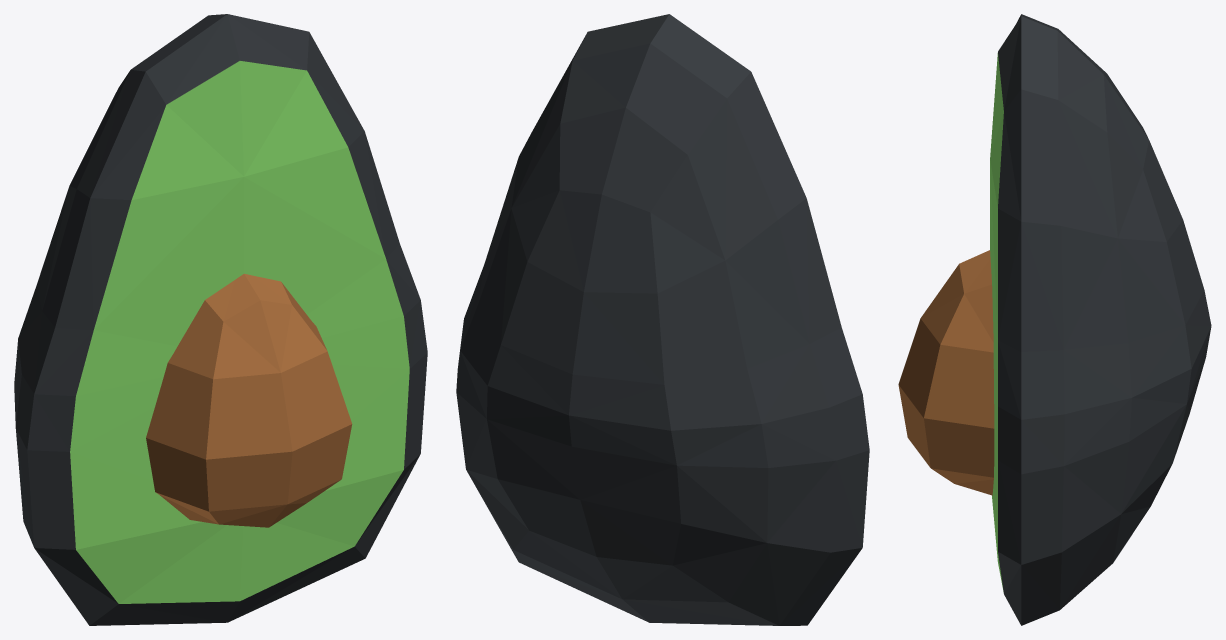
Rendered from Avocado.obj.
3 renders of one model, left to right at view 1: azimuth 30°, elevation 25°; view 2: azimuth 150°, elevation 25°; view 3: azimuth 270°, elevation 25°, orthographic. The views are drawn at different scales.
Visible parts, largest first — view 1: Avocado_PaleGreen, Avocado_DarkGrey, Avocado_LightBrown; view 2: Avocado_DarkGrey; view 3: Avocado_DarkGrey, Avocado_LightBrown, Avocado_PaleGreen.
Part boxes in pixels (box(x1,y1,x2,y2)): Avocado_PaleGreen: box(70, 61, 409, 603); Avocado_DarkGrey: box(14, 14, 427, 625); Avocado_LightBrown: box(146, 273, 352, 527); Avocado_DarkGrey: box(456, 14, 869, 625); Avocado_DarkGrey: box(998, 14, 1211, 625); Avocado_LightBrown: box(898, 250, 994, 495); Avocado_PaleGreen: box(990, 53, 1003, 591).
Bounding box in the file's own units: 0.7531 × 1.09 × 0.5398.
